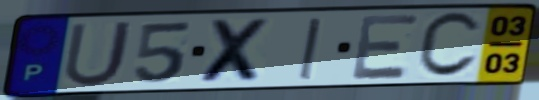5: (130, 19, 196, 85)
C: (413, 10, 484, 81)
E: (349, 12, 423, 82)
I: (295, 16, 324, 82)
U: (60, 19, 137, 90)
X: (197, 17, 275, 85)
